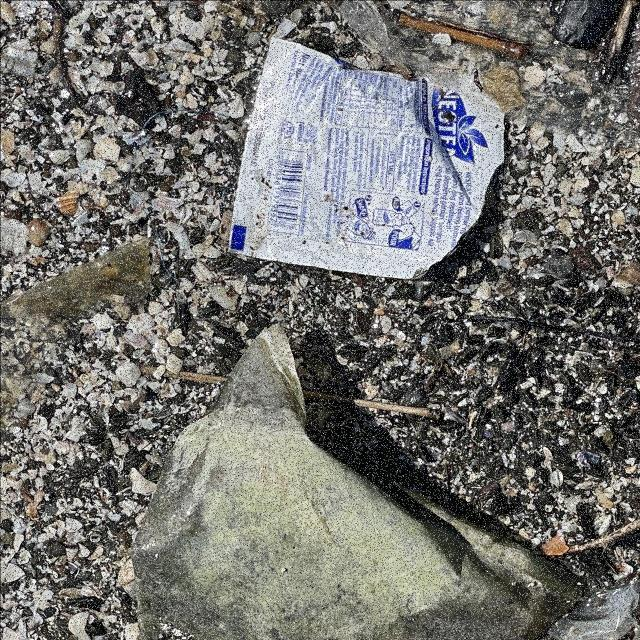plastic_waste: (225, 39, 504, 281)
